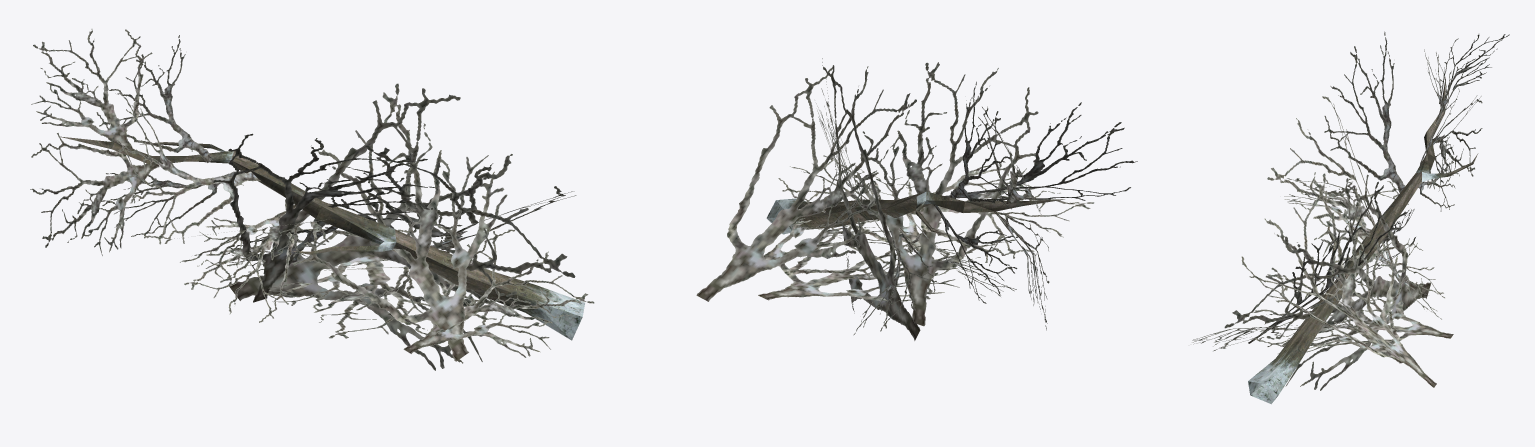
Rendered from environment_Tree_xue_002_c.FBX.
3 renders of one model, left to right at view 1: azimuth 30°, elevation 25°; view 2: azimuth 150°, elevation 25°; view 3: azimuth 270°, elevation 25°, orthographic. The views are drawn at different scales.
Parts seen in each view (by area): view 1: environment_Tree_xue_002_c; view 2: environment_Tree_xue_002_c; view 3: environment_Tree_xue_002_c.
Boxes of the visible parts, x1,y1,x2,y2 form: environment_Tree_xue_002_c: (30, 29, 594, 370); environment_Tree_xue_002_c: (696, 58, 1137, 340); environment_Tree_xue_002_c: (1192, 31, 1509, 404).
Size of the model in its own units: 338 by 292 by 266.
